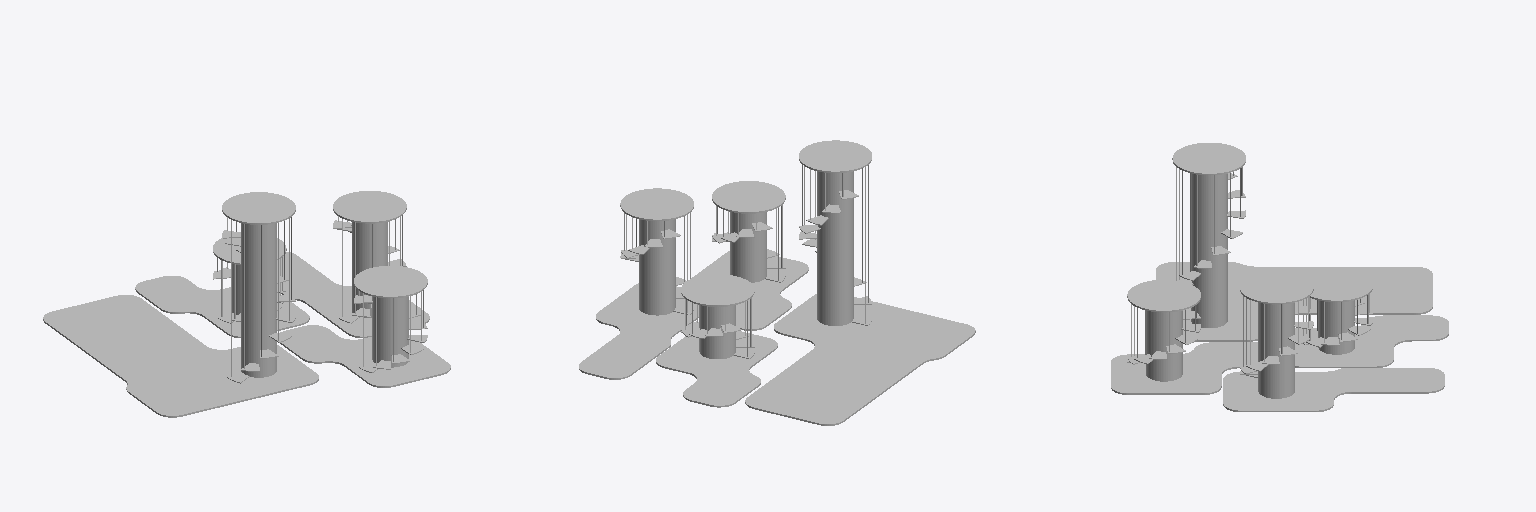
Rendered from layout.obj.
The picture shows the model from 3 angles: view 1: azimuth 30°, elevation 25°; view 2: azimuth 150°, elevation 25°; view 3: azimuth 270°, elevation 25°; orthographic projection.
Parts seen in each view (by area): view 1: sketch-0; view 2: sketch-0; view 3: sketch-0.
Boxes of the visible parts, x1,y1,x2,y2 form: sketch-0: [43, 191, 450, 417]; sketch-0: [579, 140, 975, 425]; sketch-0: [1111, 143, 1448, 411].
Bounding box in the file's own units: 4835 × 2489 × 4654.